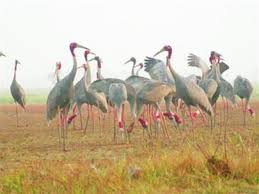seu_dau_do: (153, 42, 212, 135), (45, 41, 90, 149), (8, 58, 32, 126), (107, 83, 131, 146), (233, 72, 255, 130)
